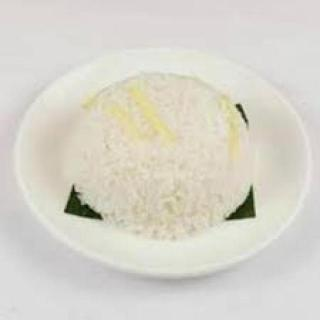Nasi: (67, 74, 255, 242)
